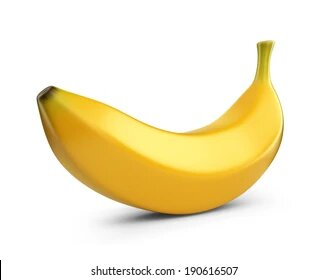banana: (38, 41, 283, 215)
